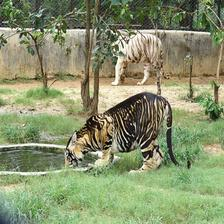tiger: (66, 92, 185, 171), (107, 30, 176, 92)
